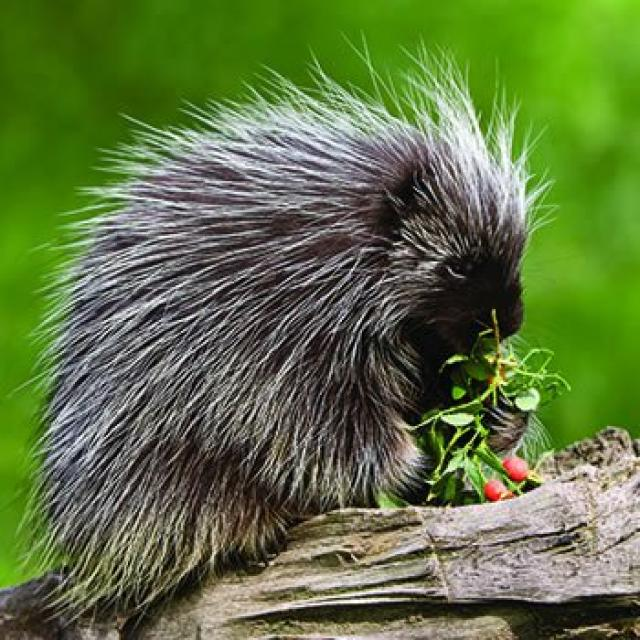Porcupine: (24, 97, 539, 640)
